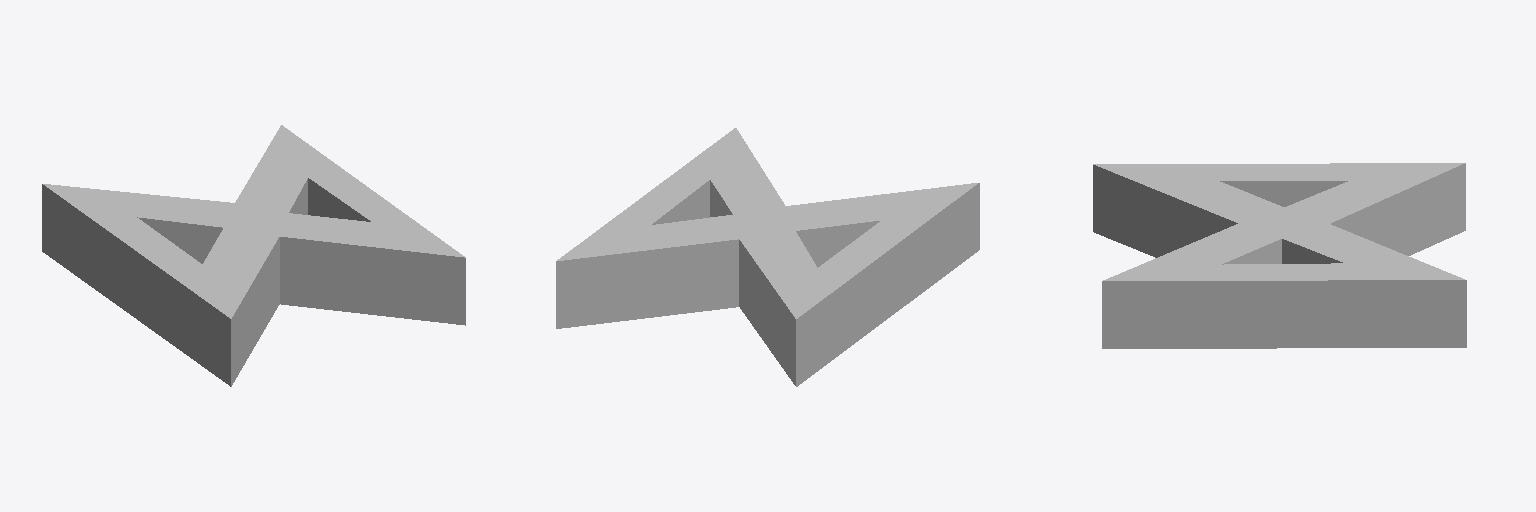
Rendered from Dagaz.obj.
3 views of the same model, side by side, from view 1: azimuth 30°, elevation 25°; view 2: azimuth 150°, elevation 25°; view 3: azimuth 270°, elevation 25° (orthographic).
Parts seen in each view (by area): view 1: Dagaz; view 2: Dagaz; view 3: Dagaz.
Boxes of the visible parts, x1=… form: Dagaz: x1=42, y1=125, x2=465, y2=386; Dagaz: x1=556, y1=128, x2=979, y2=386; Dagaz: x1=1093, y1=163, x2=1466, y2=348.
Size of the model in its own units: 0.384 by 0.1028 by 0.513.